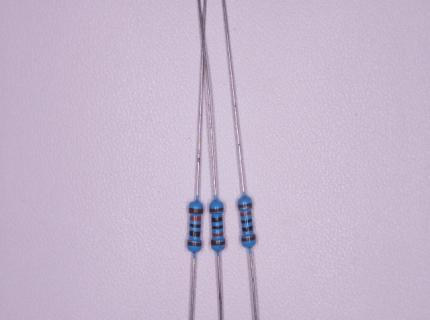Black band: (242, 224, 253, 231), (189, 230, 200, 237), (190, 223, 201, 228), (241, 218, 252, 223), (212, 217, 222, 222), (212, 225, 222, 229)
Brown band: (242, 235, 255, 242), (188, 208, 203, 214), (238, 202, 252, 208), (212, 240, 225, 246), (210, 207, 223, 212), (187, 242, 201, 246)
Orange band: (240, 210, 251, 216), (190, 216, 200, 221), (213, 232, 223, 236)
